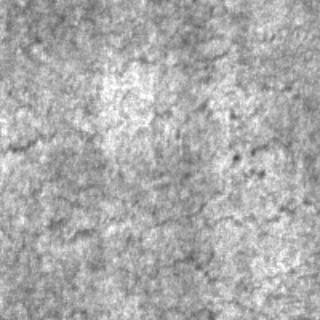crazing: (15, 83, 315, 155), (50, 203, 286, 289), (18, 15, 242, 75)
